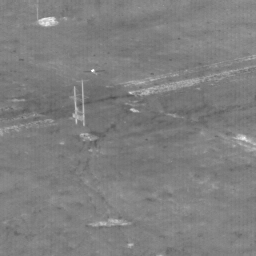aircraft: (92, 70, 94, 72)
